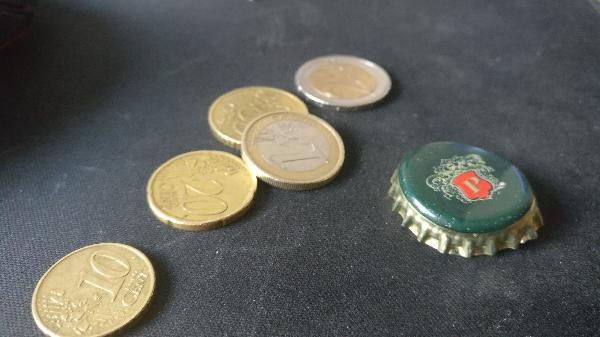Fifty Cent: (210, 86, 311, 147)
One Euro: (242, 111, 344, 189)
Ten Cent: (28, 241, 163, 337)
Twenty Cent: (145, 150, 259, 232)
Two Euro: (291, 52, 396, 113)
